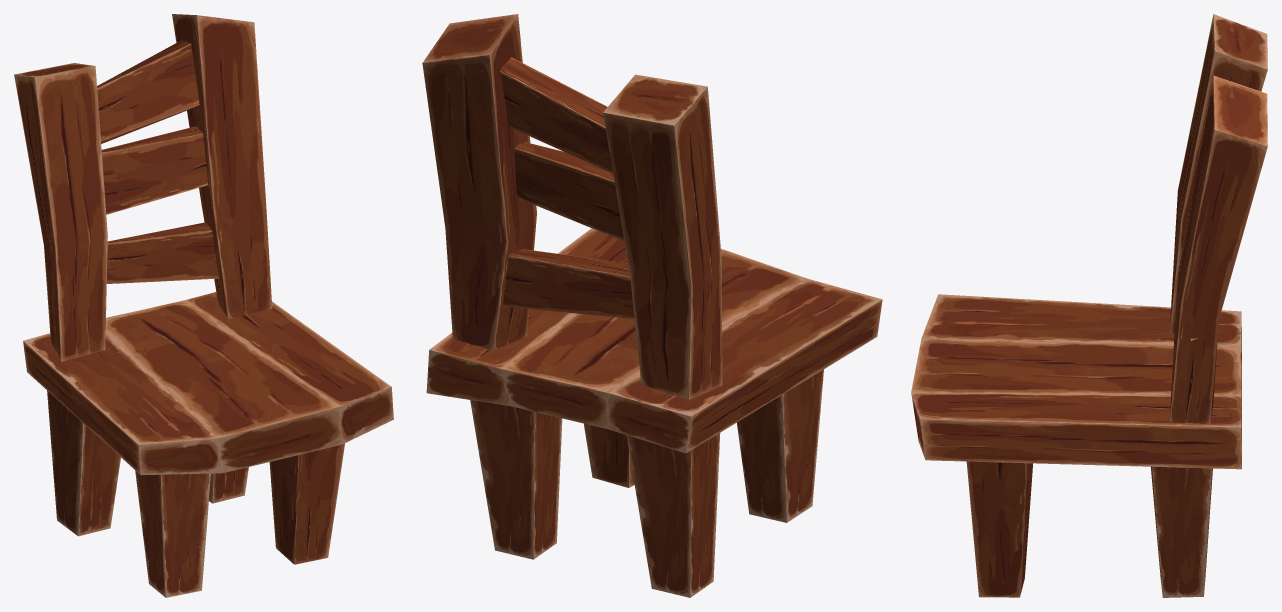
Rendered from SM_PROP_chair_03.glb.
3 renders of one model, left to right at view 1: azimuth 30°, elevation 25°; view 2: azimuth 150°, elevation 25°; view 3: azimuth 270°, elevation 25°, orthographic. The views are drawn at different scales.
Visible parts, largest first — view 1: SM_PROP_chair_03_EXPORT; view 2: SM_PROP_chair_03_EXPORT; view 3: SM_PROP_chair_03_EXPORT.
Part boxes in pixels (box(x1,y1,x2,y2)): SM_PROP_chair_03_EXPORT: box(14, 14, 393, 597); SM_PROP_chair_03_EXPORT: box(422, 14, 882, 597); SM_PROP_chair_03_EXPORT: box(911, 14, 1267, 597).
Size of the model in its own units: 0.5405 by 0.9678 by 0.614.
Materials: 1 (1 with a texture image).
